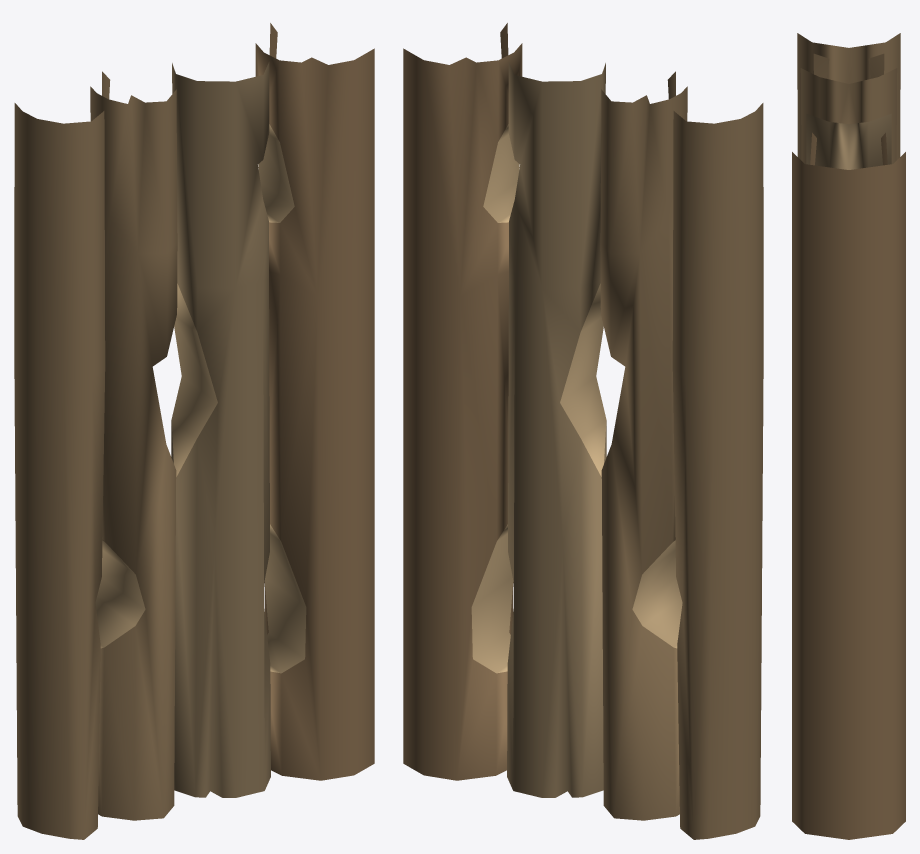
Rendered from rpgpp_av_wall_04_1.5x3_b.gltf.
3 renders of one model, left to right at view 1: azimuth 30°, elevation 25°; view 2: azimuth 150°, elevation 25°; view 3: azimuth 270°, elevation 25°, orthographic. The views are drawn at different scales.
Visible parts, largest first — view 1: rpgpp_av_wall_04_1.5x3_b; view 2: rpgpp_av_wall_04_1.5x3_b; view 3: rpgpp_av_wall_04_1.5x3_b.
Boxes of the visible parts, x1,y1,x2,y2 form: rpgpp_av_wall_04_1.5x3_b: (14,23,374,839); rpgpp_av_wall_04_1.5x3_b: (403,23,763,839); rpgpp_av_wall_04_1.5x3_b: (792,33,905,839).
Bounding box in the file's own units: 0.015 × 0.03 × 0.00463.
Materials: 1 (1 with a texture image).
